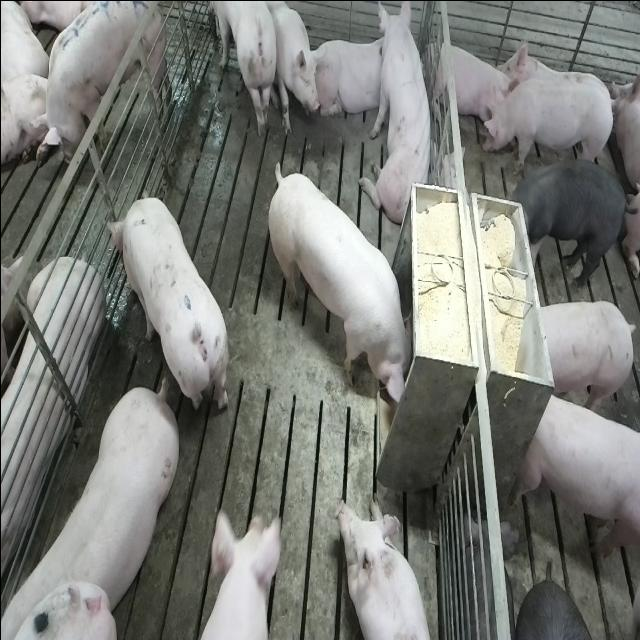Feeding: (271, 162, 420, 410)
Sitting: (364, 4, 436, 230), (268, 2, 320, 141)
Standing: (5, 373, 184, 633), (105, 194, 228, 420), (516, 386, 638, 568), (35, 0, 173, 153), (506, 154, 625, 285), (482, 77, 618, 181), (191, 507, 288, 638), (531, 298, 634, 416), (202, 0, 276, 133)
Sternal_lying: (0, 254, 100, 587), (334, 495, 434, 640), (426, 34, 509, 132), (311, 35, 390, 121)
